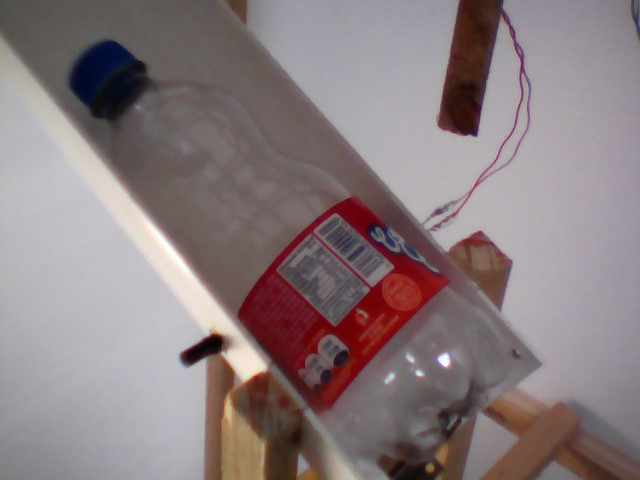plastico: (60, 30, 512, 480)
